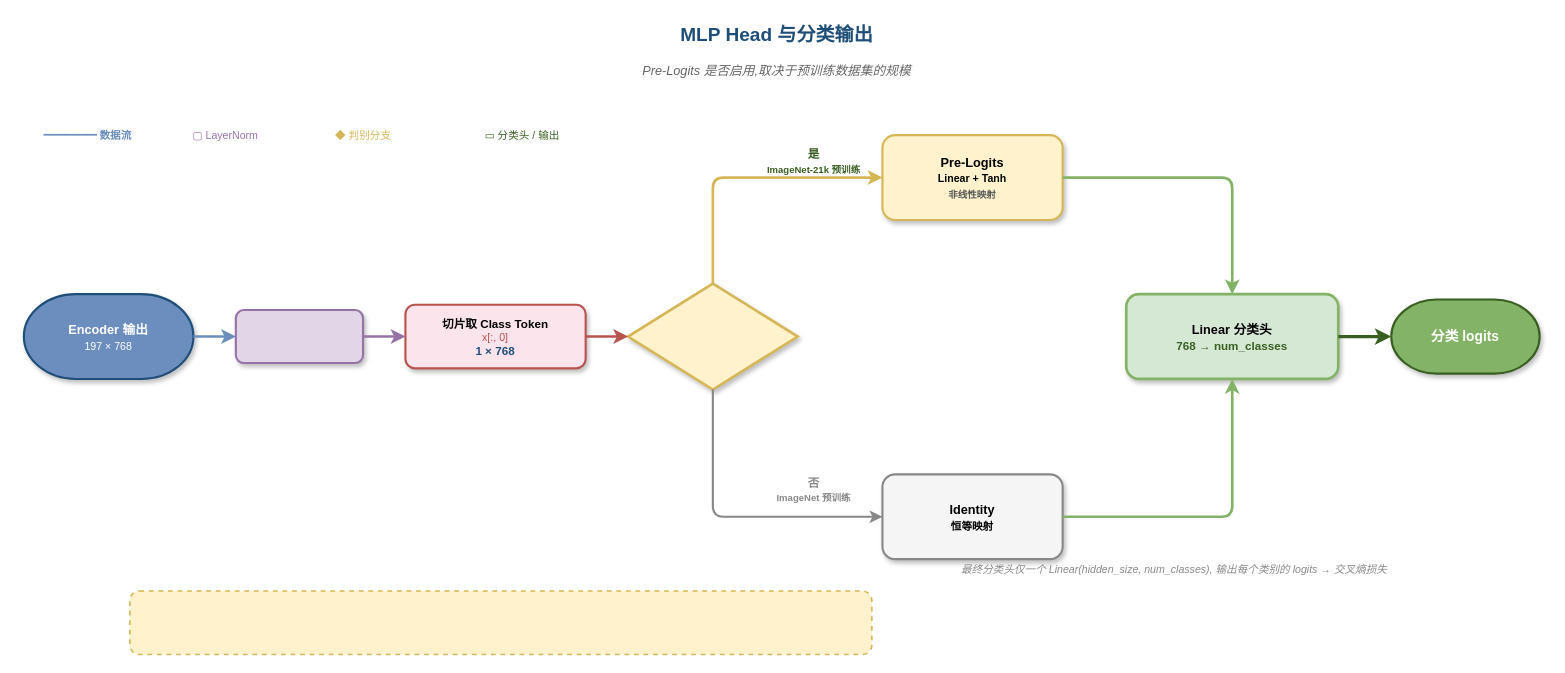
Image size: 1565x673. Some labels were removed from this diagram. The centre of each missing label's shape, as x and y in pixels:
"LayerNorm" goes at pixel 300 337.
"数据越多,模型容量越大 大数据预训练时启用 Pre-Logits, 让模型有更大的迁移能力" goes at pixel 500 622.
"是否设置 representation_size?" goes at pixel 713 338.
